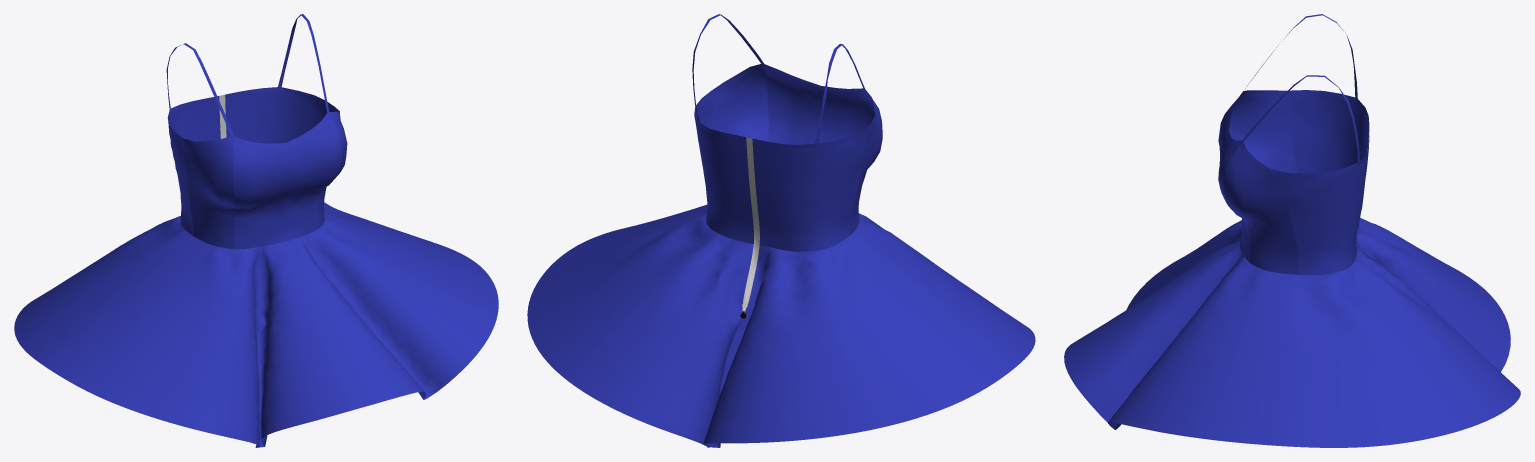
The model's file is small_blueDress_noInside.obj.
3 renders of one model, left to right at view 1: azimuth 30°, elevation 25°; view 2: azimuth 150°, elevation 25°; view 3: azimuth 270°, elevation 25°, orthographic. The views are drawn at different scales.
Visible parts, largest first — view 1: Mesh; view 2: Mesh; view 3: Mesh.
Part boxes in pixels (<box>): Mesh: <box>14,14,498,447</box>; Mesh: <box>527,14,1035,447</box>; Mesh: <box>1064,14,1520,447</box>.
Size of the model in its own units: 817 by 633 by 712.
